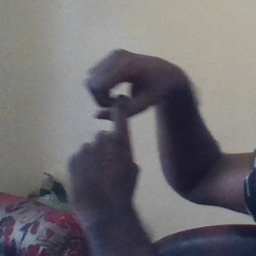Q: (59, 47, 171, 200)
